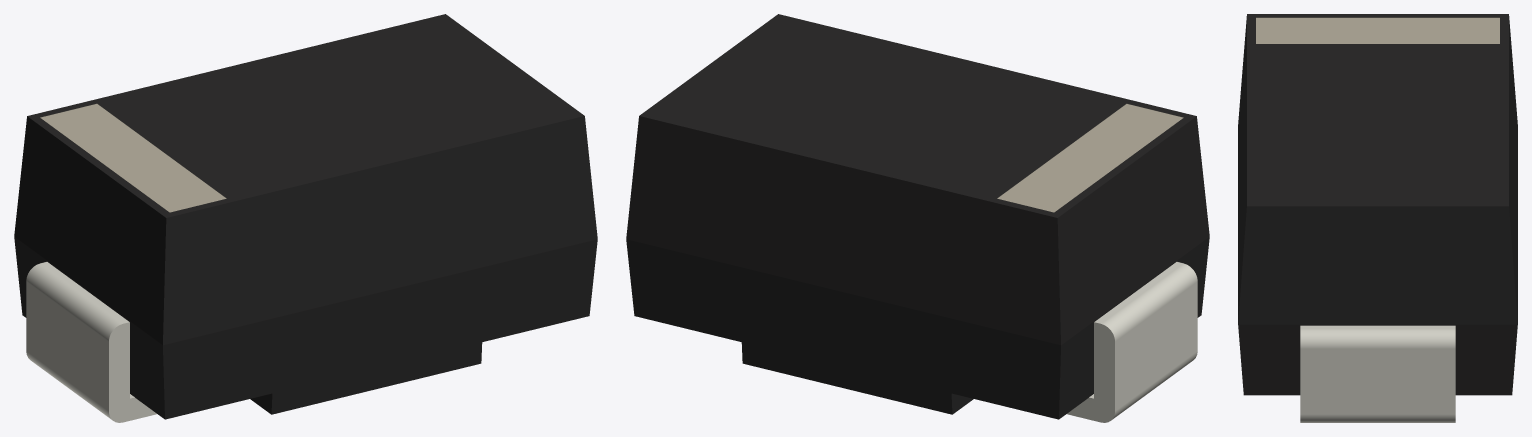
File: D_SMA.glb
3 views of the same model, side by side, from view 1: azimuth 30°, elevation 25°; view 2: azimuth 150°, elevation 25°; view 3: azimuth 270°, elevation 25° (orthographic). The views are drawn at different scales.
Visible parts, largest first — view 1: =>[0:1:1:3]; view 2: =>[0:1:1:3]; view 3: =>[0:1:1:3].
Part boxes in pixels (x1,y1,x2,y2): =>[0:1:1:3]: (14,14,597,422); =>[0:1:1:3]: (626,14,1209,422); =>[0:1:1:3]: (1238,14,1517,422).
Bounding box in the file's own units: 0.005 × 0.00222 × 0.0027.
